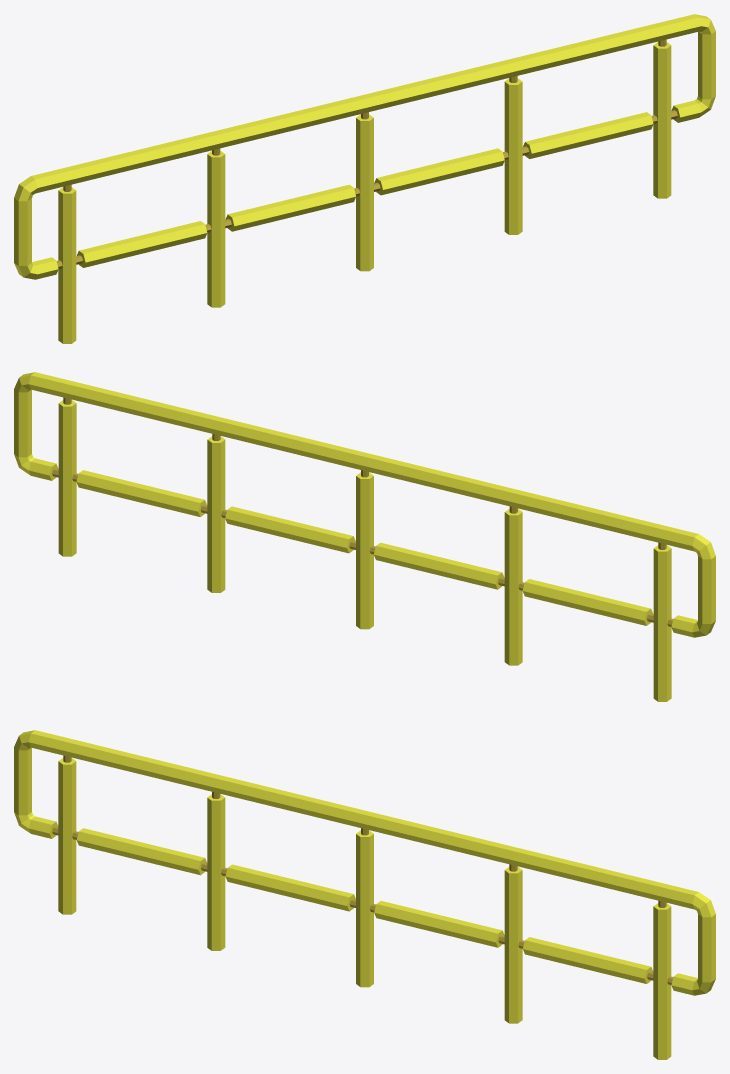
The model's file is BarriereQuad.fbx.
3 renders of one model, top to bottom at view 1: azimuth 30°, elevation 25°; view 2: azimuth 150°, elevation 25°; view 3: azimuth 330°, elevation 25°, orthographic.
Parts seen in each view (by area): view 1: Cube.011; view 2: Cube.011; view 3: Cube.011.
Boxes of the visible parts, bbox=[...] form: Cube.011: bbox=[14, 14, 715, 343]; Cube.011: bbox=[14, 372, 715, 701]; Cube.011: bbox=[14, 730, 715, 1059].
Size of the model in its own units: 843 by 198 by 18.88.
